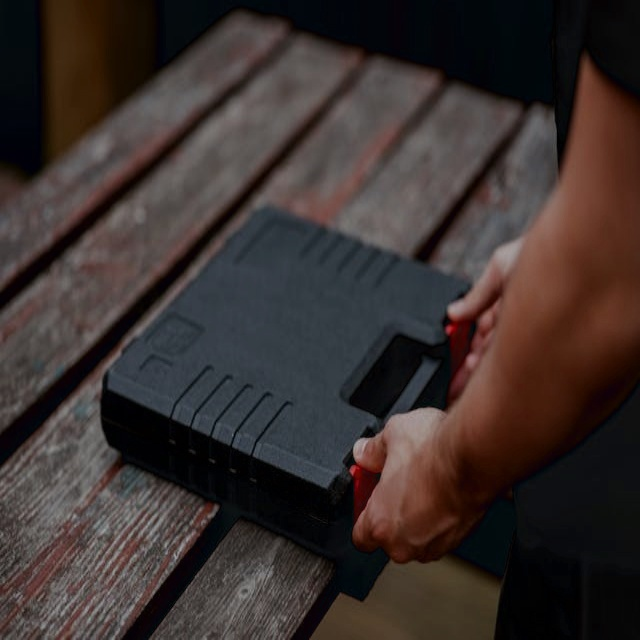foam_scum: (13, 13, 627, 627)
turbid_water: (0, 59, 640, 640), (0, 52, 412, 428)
